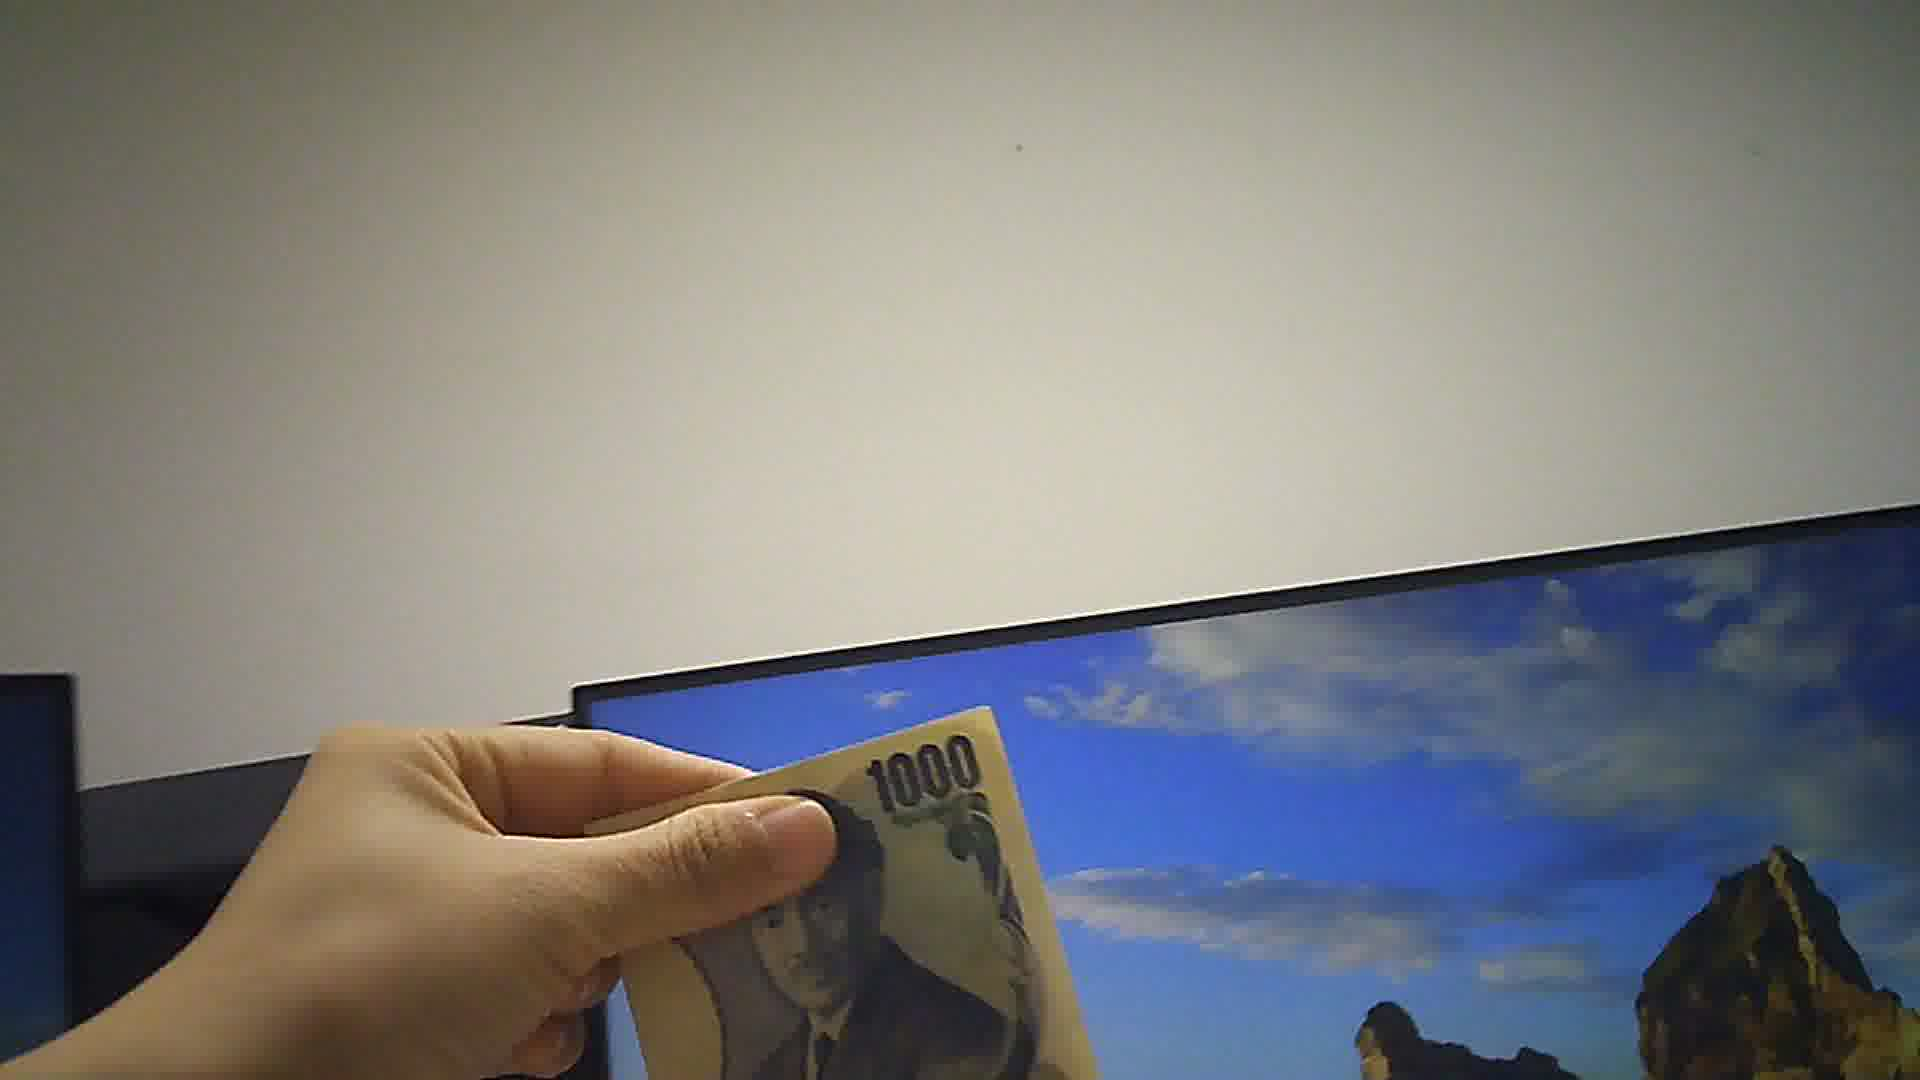1,000 Yen: (582, 715, 1098, 1079)
